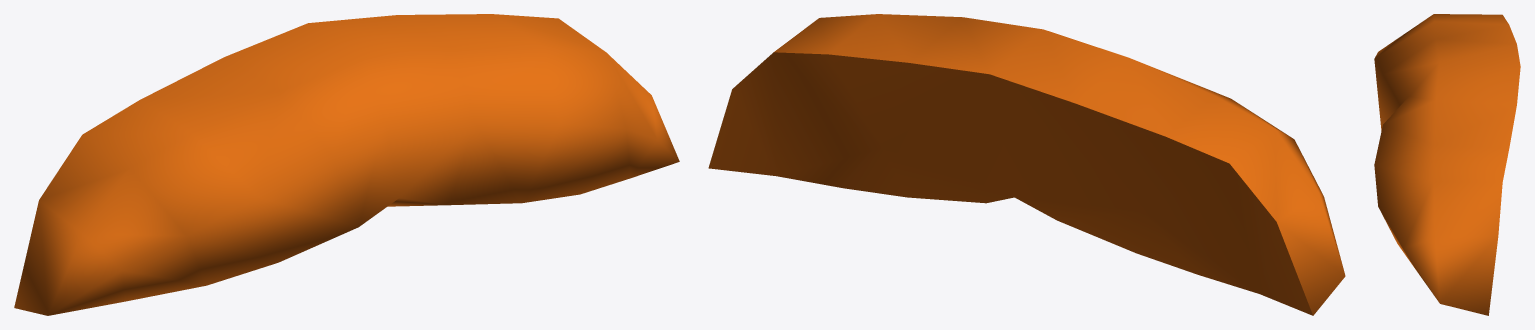
Rendered from Beard_Orange_4.fbx.
The picture shows the model from 3 angles, left to right: view 1: azimuth 30°, elevation 25°; view 2: azimuth 150°, elevation 25°; view 3: azimuth 270°, elevation 25°; orthographic projection. The views are drawn at different scales.
Parts seen in each view (by area): view 1: Beard_Orange_4; view 2: Beard_Orange_4; view 3: Beard_Orange_4.
Part boxes in pixels (x1,y1,x2,y2): Beard_Orange_4: (14, 14, 679, 315); Beard_Orange_4: (708, 14, 1345, 315); Beard_Orange_4: (1374, 14, 1520, 315).
Size of the model in its own units: 26.47 by 7.9 by 7.36.
